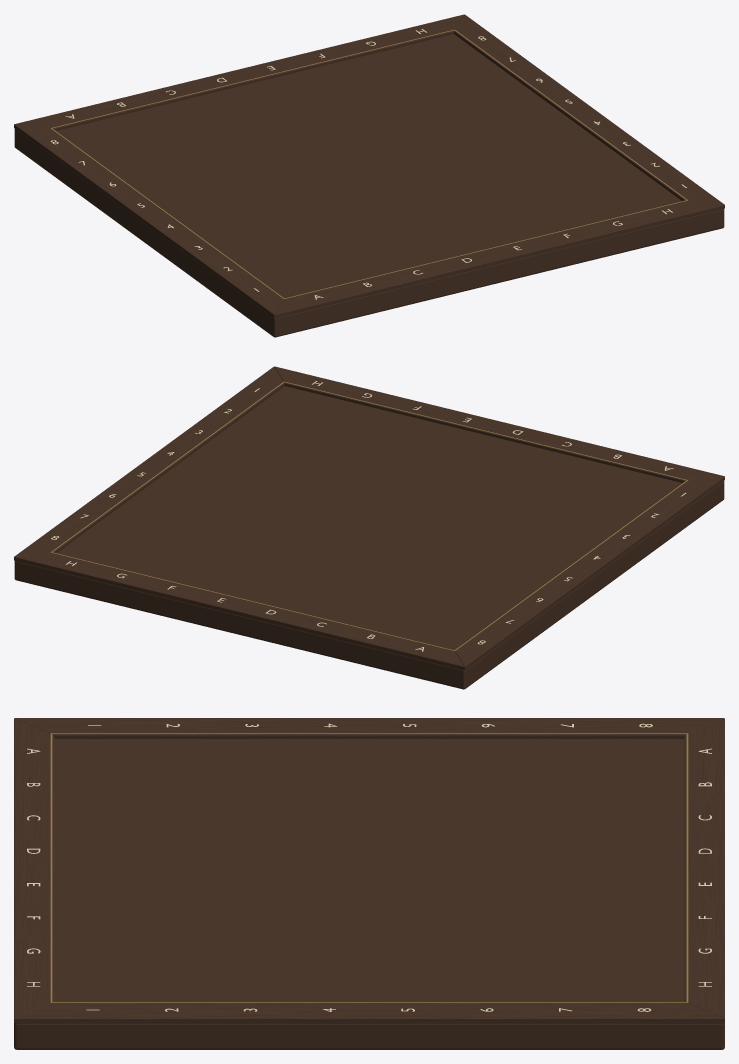
Rendered from ChessBoard.glb.
The picture shows the model from 3 angles, top to bottom: view 1: azimuth 30°, elevation 25°; view 2: azimuth 150°, elevation 25°; view 3: azimuth 270°, elevation 25°; orthographic projection. The views are drawn at different scales.
Visible parts, largest first — view 1: Board_FrameWalnut, Board_Inlay, Board_CoordinateIvory; view 2: Board_FrameWalnut, Board_Inlay, Board_CoordinateIvory; view 3: Board_FrameWalnut, Board_Inlay, Board_CoordinateIvory.
Part boxes in pixels (bbox=[...]): Board_FrameWalnut: bbox=[14, 14, 724, 337]; Board_Inlay: bbox=[50, 29, 687, 298]; Board_CoordinateIvory: bbox=[50, 29, 686, 299]; Board_FrameWalnut: bbox=[14, 366, 724, 689]; Board_Inlay: bbox=[51, 381, 688, 650]; Board_CoordinateIvory: bbox=[51, 381, 686, 651]; Board_FrameWalnut: bbox=[14, 718, 724, 1049]; Board_Inlay: bbox=[50, 733, 688, 1002]; Board_CoordinateIvory: bbox=[27, 723, 711, 1011].
Bounding box in the file's own units: 11.28 × 2.09 × 11.28.
6 materials, 3 textured.
